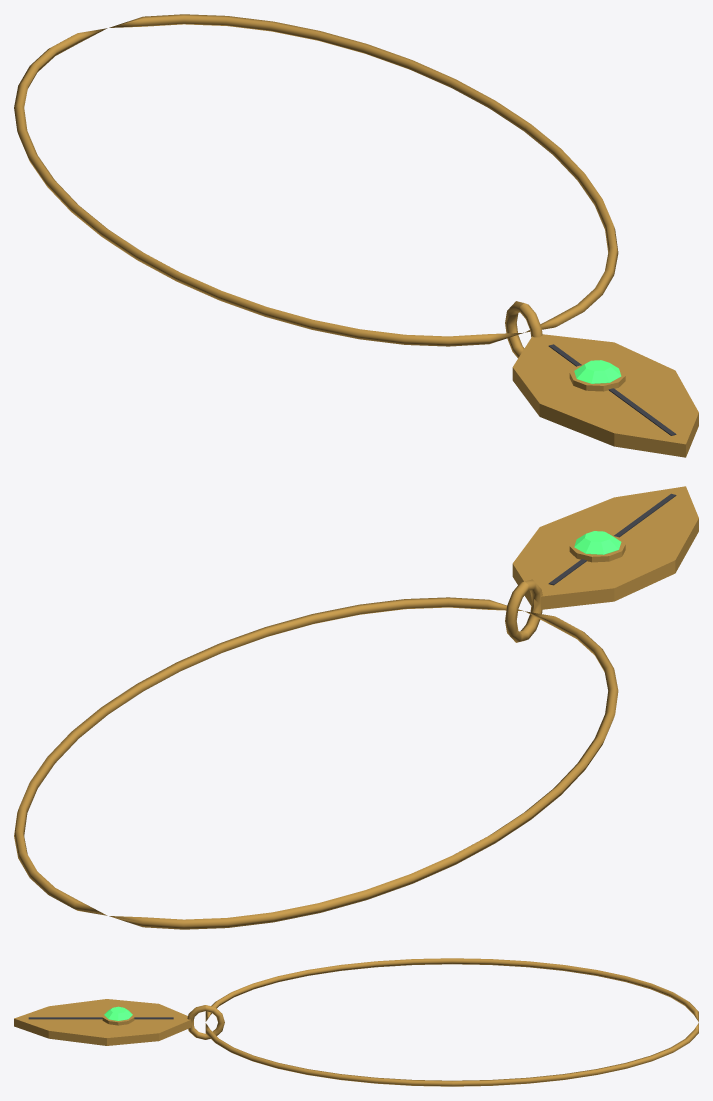
File: amulet_agility.glb
The picture shows the model from 3 angles, top to bottom: view 1: azimuth 30°, elevation 25°; view 2: azimuth 150°, elevation 25°; view 3: azimuth 270°, elevation 25°; orthographic projection. The views are drawn at different scales.
Parts seen in each view (by area): view 1: Amulet_Agility_Brass, Amulet_Agility_Gem_agility; view 2: Amulet_Agility_Brass, Amulet_Agility_Gem_agility; view 3: Amulet_Agility_Brass, Amulet_Agility_Darksteel, Amulet_Agility_Gem_agility.
Boxes of the visible parts, x1=… form: Amulet_Agility_Brass: x1=14, y1=14, x2=698, y2=457; Amulet_Agility_Gem_agility: x1=574, y1=360, x2=621, y2=383; Amulet_Agility_Brass: x1=14, y1=486, x2=698, y2=929; Amulet_Agility_Gem_agility: x1=574, y1=531, x2=621, y2=554; Amulet_Agility_Brass: x1=14, y1=958, x2=698, y2=1086; Amulet_Agility_Darksteel: x1=28, y1=1017, x2=173, y2=1019; Amulet_Agility_Gem_agility: x1=104, y1=1006, x2=132, y2=1020.
Bounding box in the file's own units: 0.1021 × 0.0134 × 0.236.
